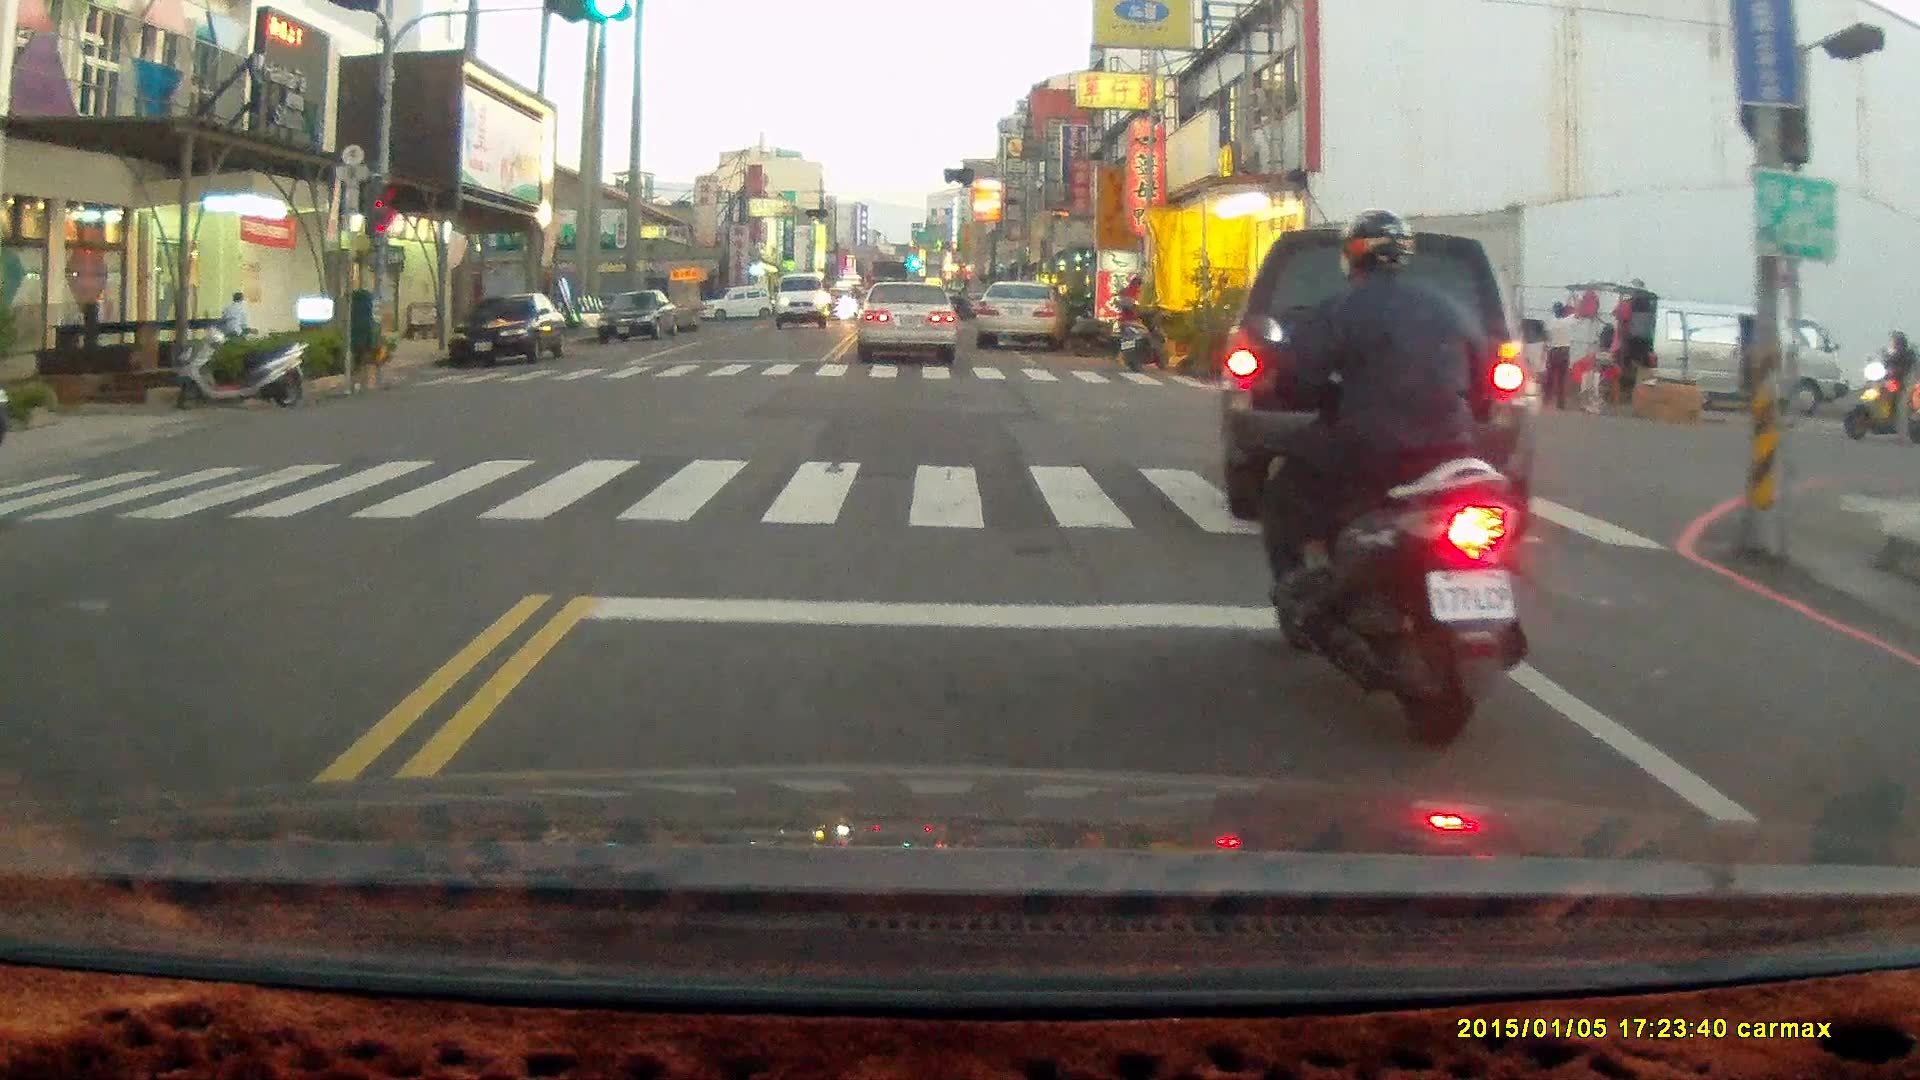pedestrian: (1539, 299, 1577, 410), (1108, 272, 1140, 362), (219, 288, 255, 353)
rider: (1242, 205, 1525, 749), (1838, 329, 1918, 440)
vehicle: (1214, 232, 1551, 540), (1602, 295, 1851, 417), (450, 291, 569, 371), (855, 280, 961, 361), (977, 276, 1066, 352), (597, 286, 680, 343), (774, 270, 829, 330)
